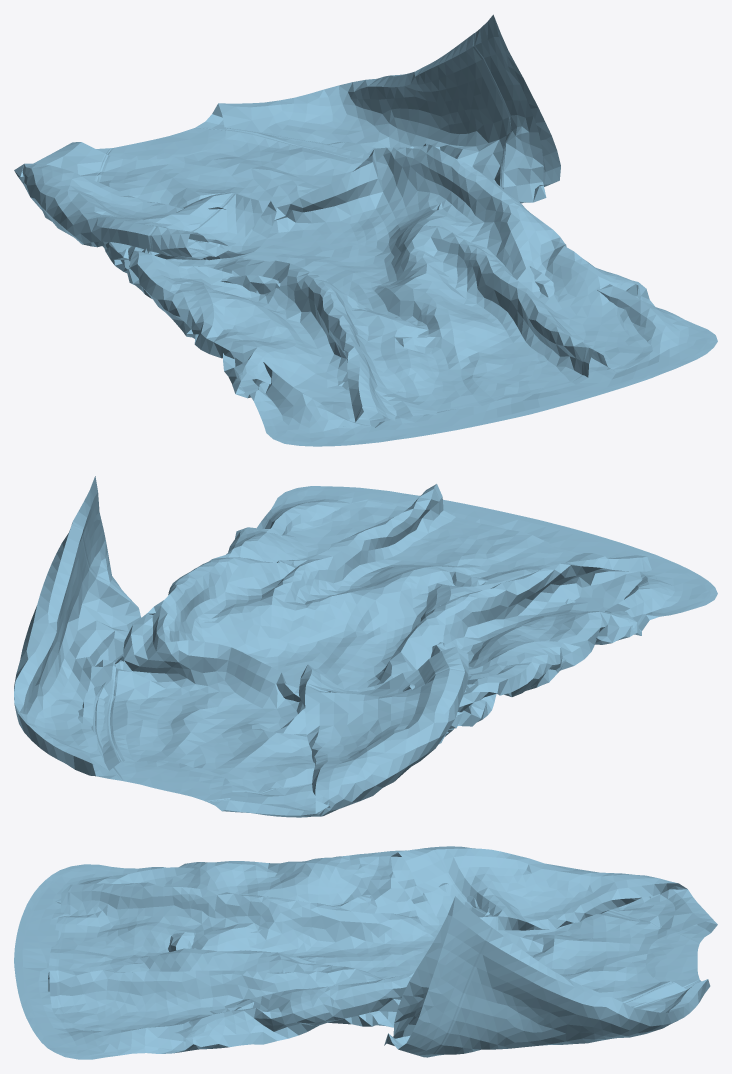
Rendered from frame_08.glb.
3 renders of one model, top to bottom at view 1: azimuth 30°, elevation 25°; view 2: azimuth 150°, elevation 25°; view 3: azimuth 270°, elevation 25°, orthographic. The views are drawn at different scales.
Visible parts, largest first — view 1: frame_08.obj; view 2: frame_08.obj; view 3: frame_08.obj.
Boxes of the visible parts, <box> form: frame_08.obj: <box>14,14,717,446</box>; frame_08.obj: <box>14,476,717,817</box>; frame_08.obj: <box>14,846,717,1059</box>.
Bounding box in the file's own units: 1.26 × 0.4661 × 1.81.
